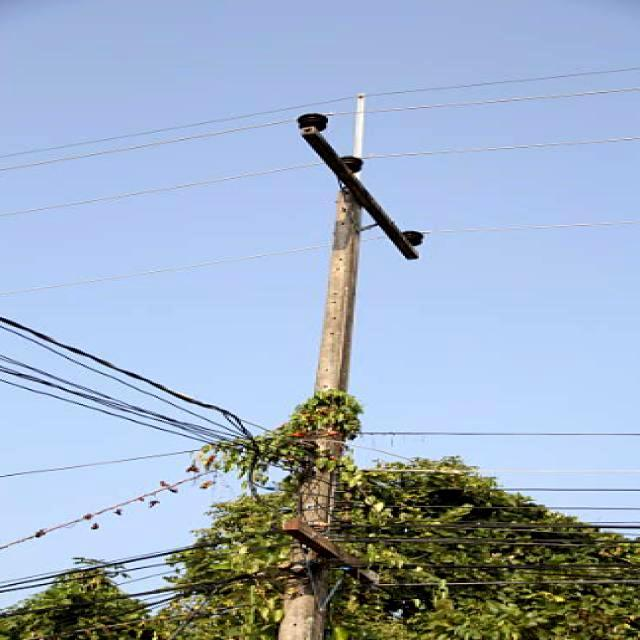light_pole: (285, 383, 373, 496)
